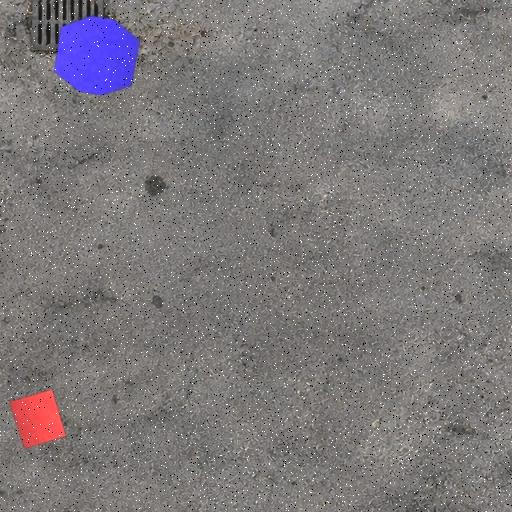RED_SQUARE: (8, 388, 66, 450)
